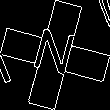N_S: (29, 26, 81, 84)
